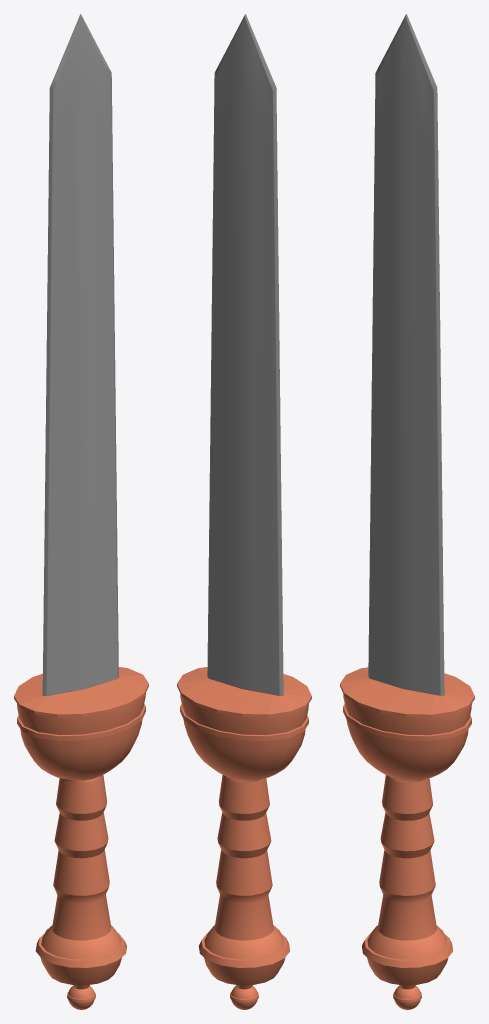
File: Sword.fbx
3 renders of one model, left to right at view 1: azimuth 30°, elevation 25°; view 2: azimuth 150°, elevation 25°; view 3: azimuth 330°, elevation 25°, orthographic.
Visible parts, largest first — view 1: sword; view 2: sword; view 3: sword.
Boxes of the visible parts, <box> form: sword: <box>14,14,148,1009</box>; sword: <box>177,14,311,1009</box>; sword: <box>340,14,474,1009</box>.
Bounding box in the file's own units: 2.16 × 16.68 × 1.66.
